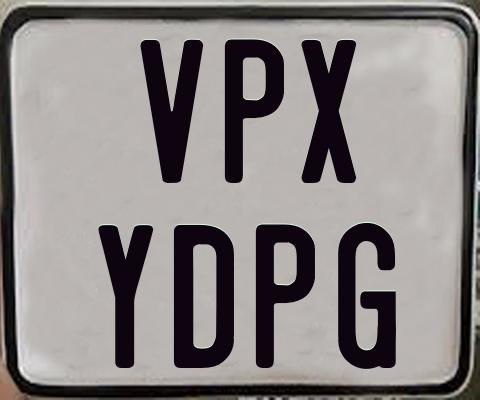D: (174, 225, 238, 371)
G: (337, 222, 397, 373)
P: (224, 36, 289, 184), (254, 222, 315, 366)
V: (140, 37, 207, 182)
X: (300, 38, 356, 184)
Y: (97, 222, 156, 370)
